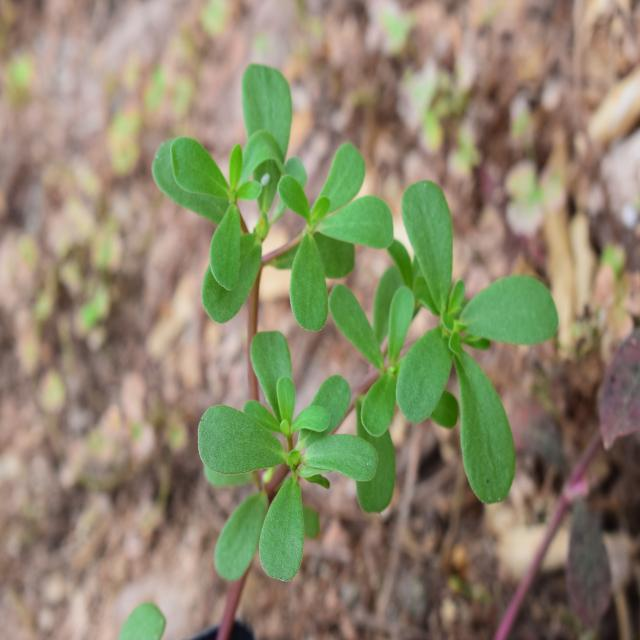purslane: (151, 62, 533, 562)
